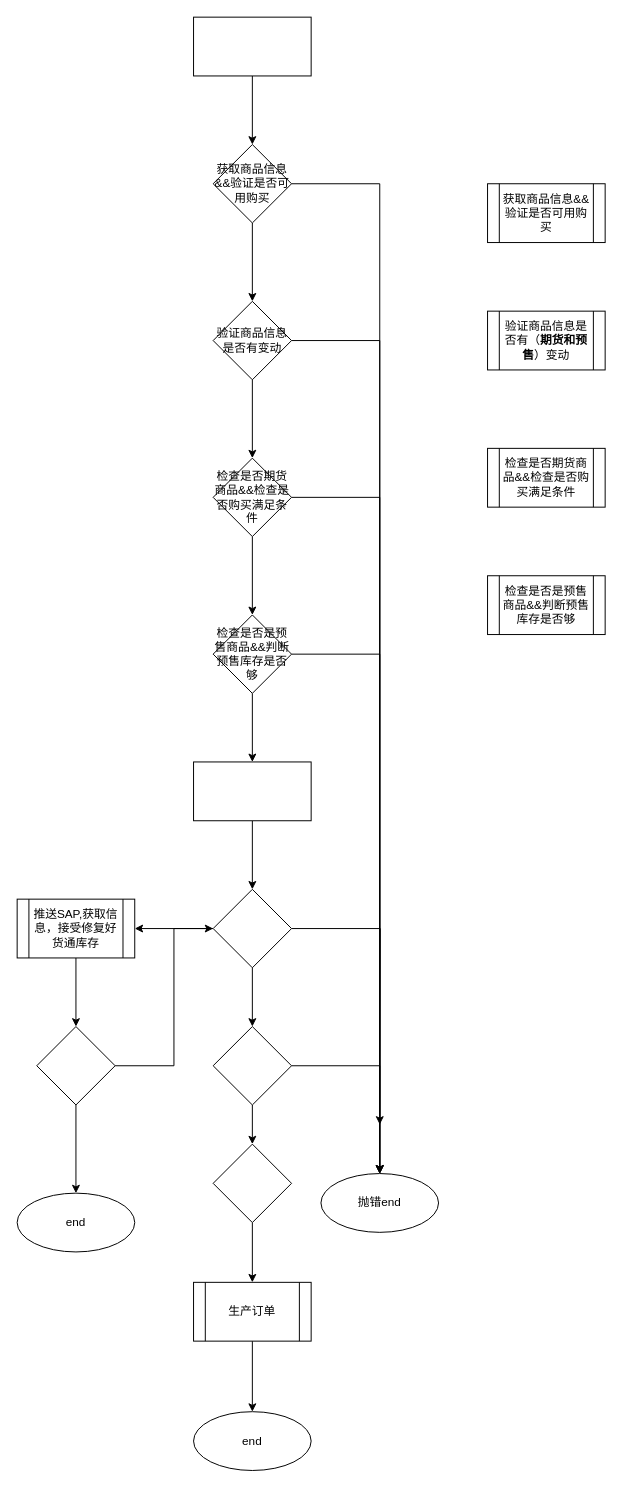
Some shapes in this 622 by 1488 pixel diagram are drawn without their labels. The centre of each missing label's shape, as x and y in pixels:
下订单（和显示价格无关，全都是校验）: [252,46]
库存是否正常: [75,1065]
检查SAP是否库存: [252,928]
检查特卖和现货订单最少下单金额: [252,1183]
获取正常商品sku: [252,791]
验证混批（最少购买单数）: [252,1065]
